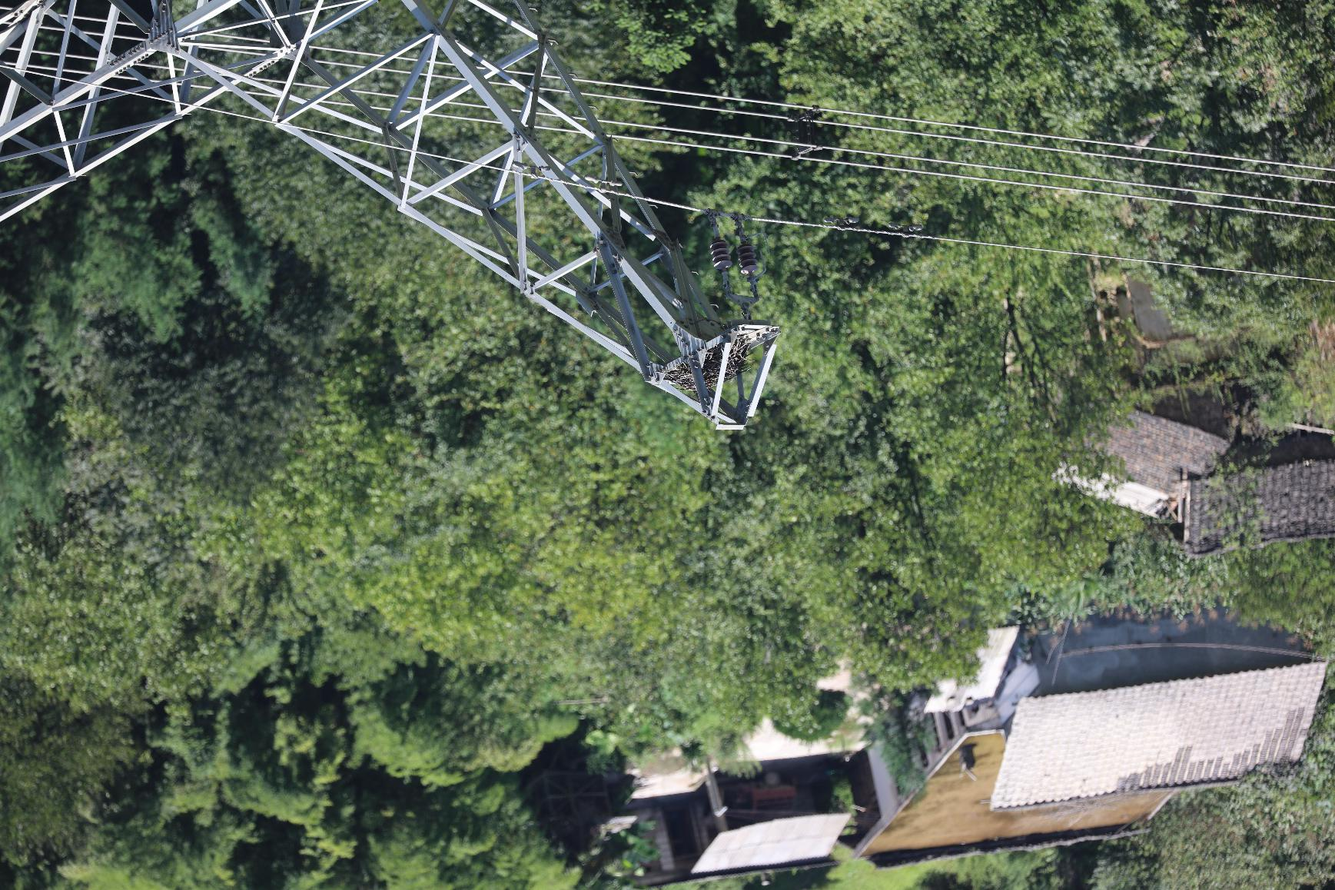damper: (509, 159, 553, 181), (582, 173, 625, 194), (885, 221, 926, 240), (820, 214, 862, 232)
nest: (666, 337, 756, 394)
